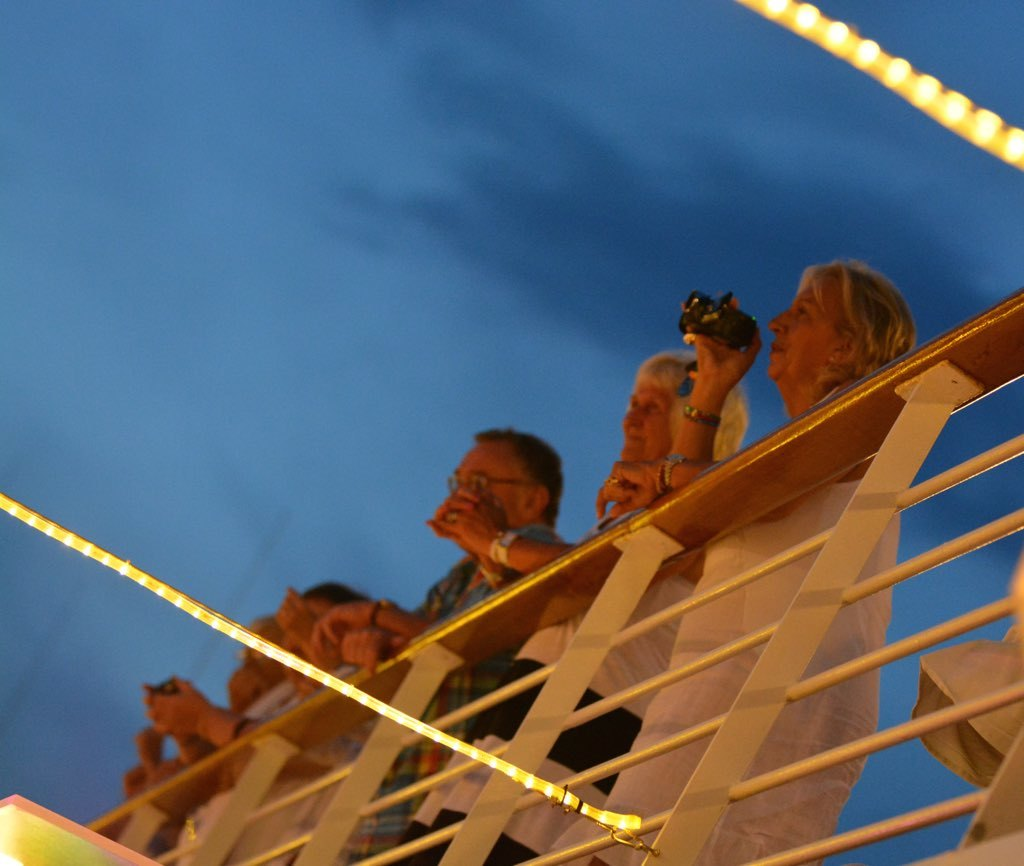Person: (121, 258, 1023, 866)
